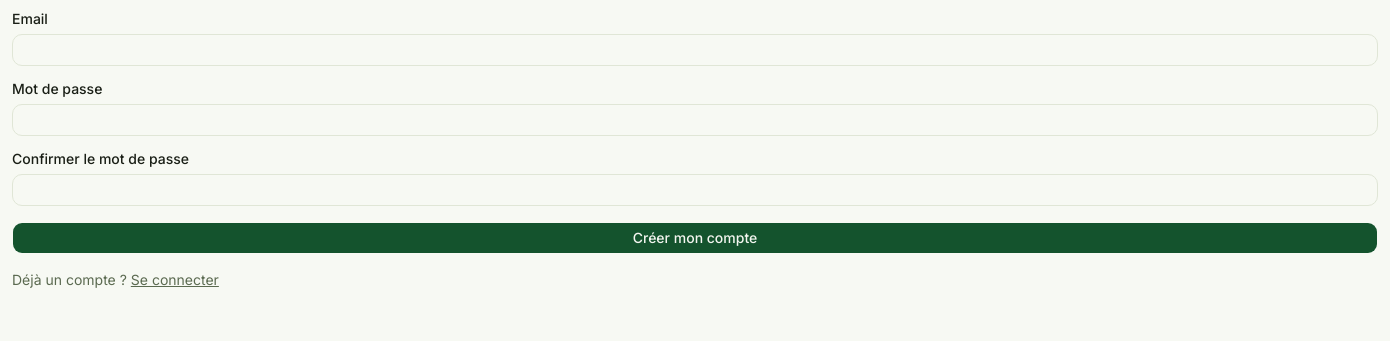
SignupForm › affiche l'erreur serveur
The image size is (1390, 341).
Type "a@b.com" into the field labelled "Email" at (695, 50), box [12,34,1378,66]
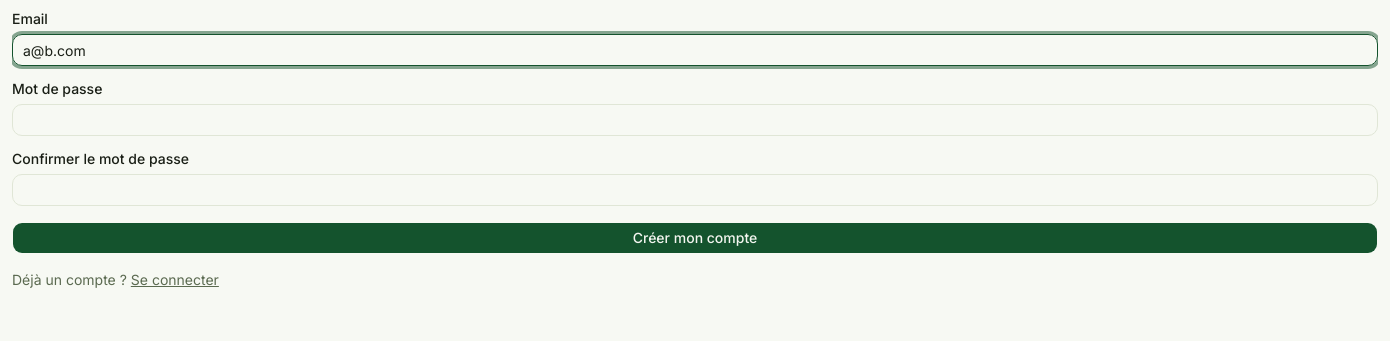
Type "password1" into the password field labelled "Mot de passe" at (695, 120), box [12,104,1378,136]
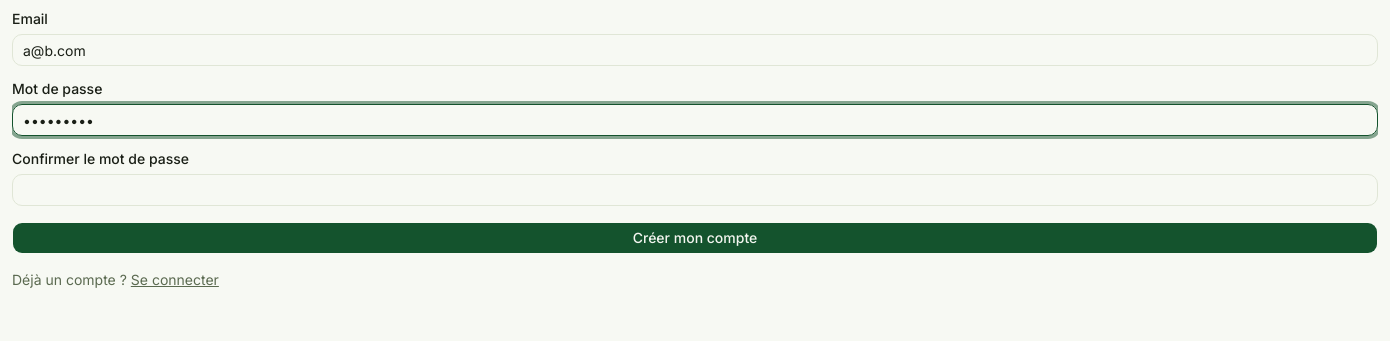
Type "password1" into the password field labelled "Confirmer le mot de passe" at (695, 190), box [12,174,1378,206]
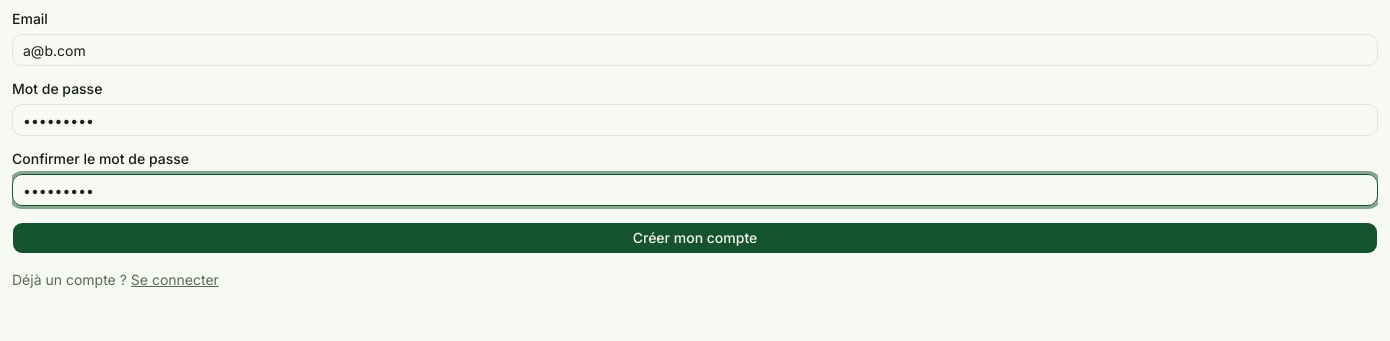
Click the button "Créer mon compte" at (695, 238), box [12,222,1378,254]
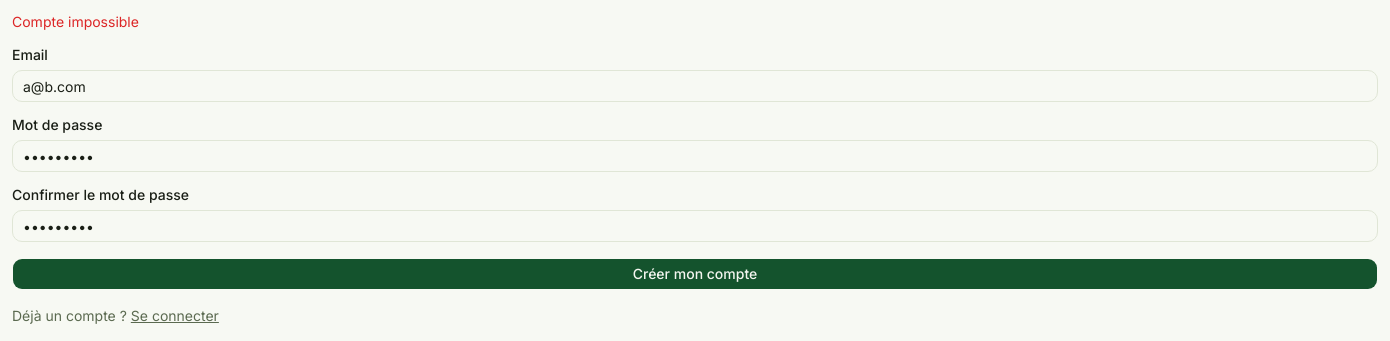
Now the message shows "impossible", box [12,13,139,30]
